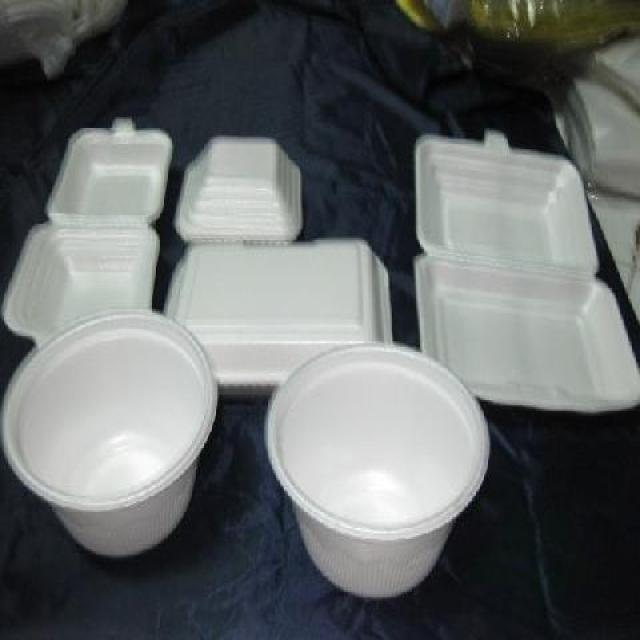styrofoam: (262, 340, 490, 598)
